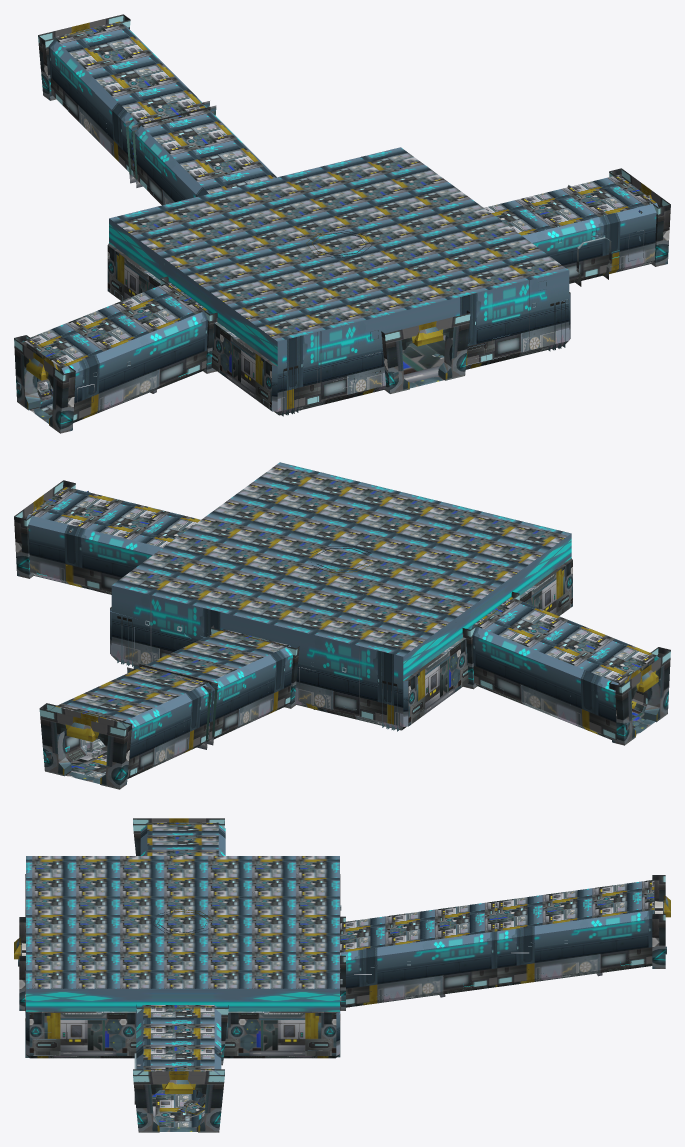
The model's file is Combined_Mesh_root_scene__11_1f1e19ed__ZombiesII_laboratory_09_d_715a74b3_c1f257.obj.
3 views of the same model, one above another, from view 1: azimuth 30°, elevation 25°; view 2: azimuth 150°, elevation 25°; view 3: azimuth 270°, elevation 25° (orthographic). The views are drawn at different scales.
Size of the model in its own units: 84.66 by 16.88 by 83.67.
291 materials, 291 textured.
